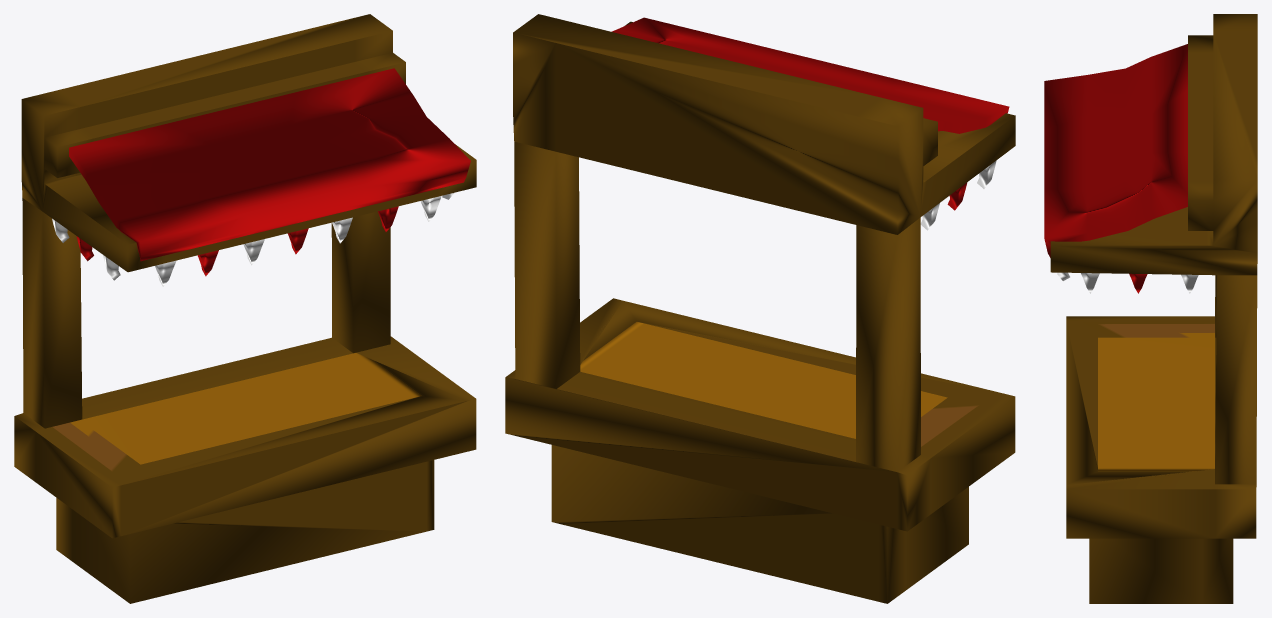
File: StallRed.fbx
3 renders of one model, left to right at view 1: azimuth 30°, elevation 25°; view 2: azimuth 150°, elevation 25°; view 3: azimuth 270°, elevation 25°, orthographic. The views are drawn at different scales.
Parts seen in each view (by area): view 1: pDisc2; view 2: pDisc2; view 3: pDisc2.
Boxes of the visible parts, left/top/right/bottom form: pDisc2: left=14, top=14, right=476, bottom=603; pDisc2: left=505, top=14, right=1015, bottom=603; pDisc2: left=1044, top=14, right=1257, bottom=603.
Size of the model in its own units: 3.31 by 3.89 by 1.73.
1 material, 1 textured.
